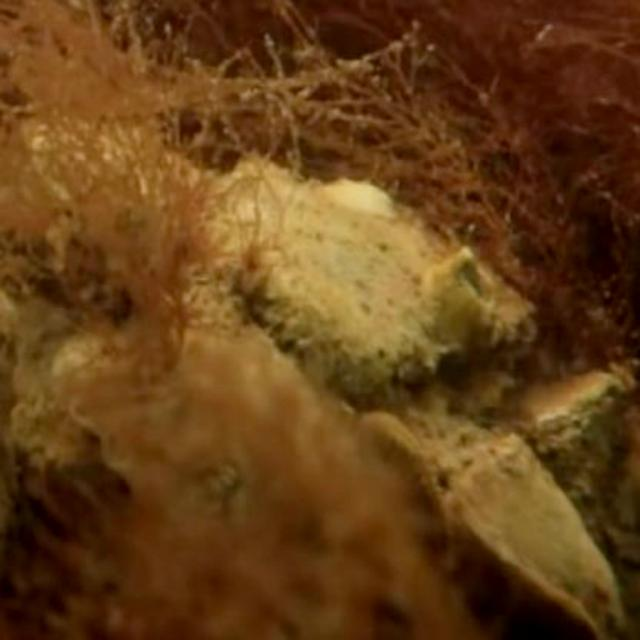Oyster-Closed: (221, 182, 534, 401), (507, 372, 630, 449)
